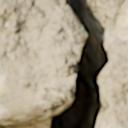broken_brick: (0, 0, 85, 125), (99, 0, 127, 127)
crack: (2, 0, 126, 127)
